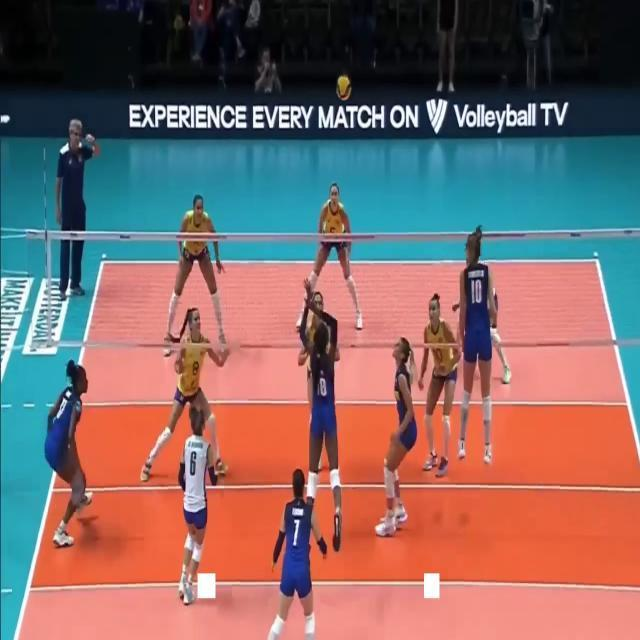volleyball: (336, 76, 351, 100)
